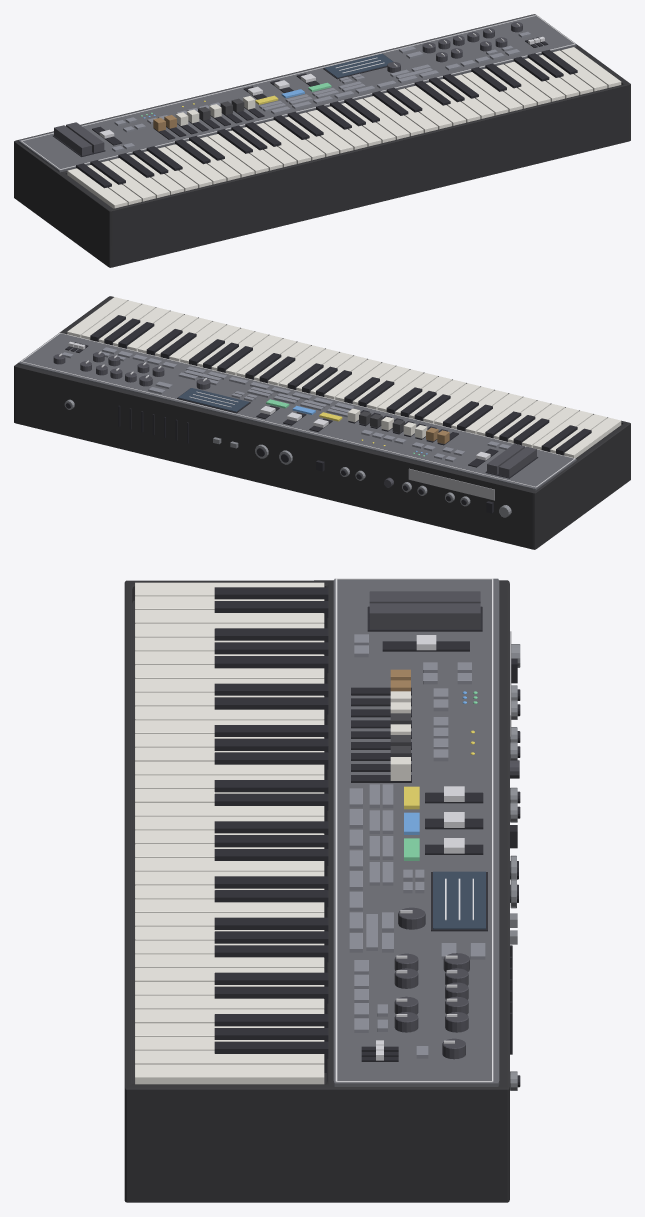
3 renders of one model, top to bottom at view 1: azimuth 30°, elevation 25°; view 2: azimuth 150°, elevation 25°; view 3: azimuth 270°, elevation 25°, orthographic. The views are drawn at different scales.
Visible parts, largest first — view 1: Cube, Cube.001, Cube.113, Cube.006, Cube.041, Cube.003, Cube.009, Cube.034, Cube.013, Cube.016, Cube.023, Cube.027 (+31 smaller); view 2: Cube, Cube.001, Cube.178, Cube.113, Cube.006, Cube.041, Cube.003, Cube.002, Cube.016, Cube.034, Cube.013, Cube.023 (+32 smaller); view 3: Cube, Cube.001, Cube.041, Cube.070, Cube.113, Cube.036, Cube.015, Cube.019, Cube.040, Cube.008, Cube.012, Cube.022 (+56 smaller).
Part boxes in pixels (x1=…): Cube: x1=14, y1=14, x2=630, y2=267; Cube.001: x1=18, y1=14, x2=576, y2=172; Cube.113: x1=324, y1=53, x2=393, y2=77; Cube.006: x1=67, y1=168, x2=127, y2=208; Cube.041: x1=561, y1=47, x2=621, y2=88; Cube.003: x1=21, y1=15, x2=535, y2=141; Cube.009: x1=109, y1=158, x2=169, y2=198; Cube.034: x1=462, y1=72, x2=522, y2=112; Cube.013: x1=166, y1=144, x2=226, y2=184; Cube.016: x1=208, y1=134, x2=268, y2=174; Cube.023: x1=307, y1=110, x2=367, y2=150; Cube.027: x1=363, y1=96, x2=423, y2=136; Cube: x1=14, y1=296, x2=630, y2=549; Cube.001: x1=18, y1=333, x2=576, y2=490; Cube.178: x1=408, y1=468, x2=494, y2=500; Cube.113: x1=178, y1=388, x2=249, y2=411; Cube.006: x1=564, y1=417, x2=621, y2=458; Cube.041: x1=67, y1=297, x2=127, y2=337; Cube.003: x1=21, y1=361, x2=535, y2=487; Cube.002: x1=60, y1=333, x2=574, y2=458; Cube.016: x1=423, y1=383, x2=480, y2=423; Cube.034: x1=169, y1=321, x2=226, y2=361; Cube.013: x1=465, y1=393, x2=522, y2=434; Cube.023: x1=324, y1=359, x2=381, y2=399; Cube: x1=124, y1=580, x2=509, y2=1202; Cube.001: x1=333, y1=578, x2=499, y2=1086; Cube.041: x1=135, y1=1064, x2=324, y2=1084; Cube.070: x1=369, y1=603, x2=480, y2=629; Cube.113: x1=433, y1=871, x2=485, y2=929; Cube.036: x1=135, y1=995, x2=324, y2=1009; Cube.015: x1=135, y1=706, x2=324, y2=720; Cube.019: x1=135, y1=761, x2=324, y2=775; Cube.040: x1=135, y1=1050, x2=324, y2=1064; Cube.008: x1=135, y1=610, x2=324, y2=623; Cube.012: x1=135, y1=665, x2=324, y2=678; Cube.022: x1=135, y1=803, x2=324, y2=816.
Size of the model in its own units: 9.1 by 1.19 by 2.99.
